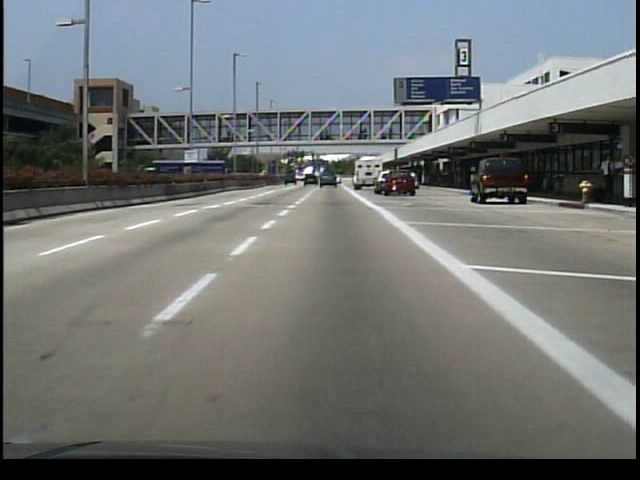person: (591, 152, 616, 203), (406, 170, 421, 194)
